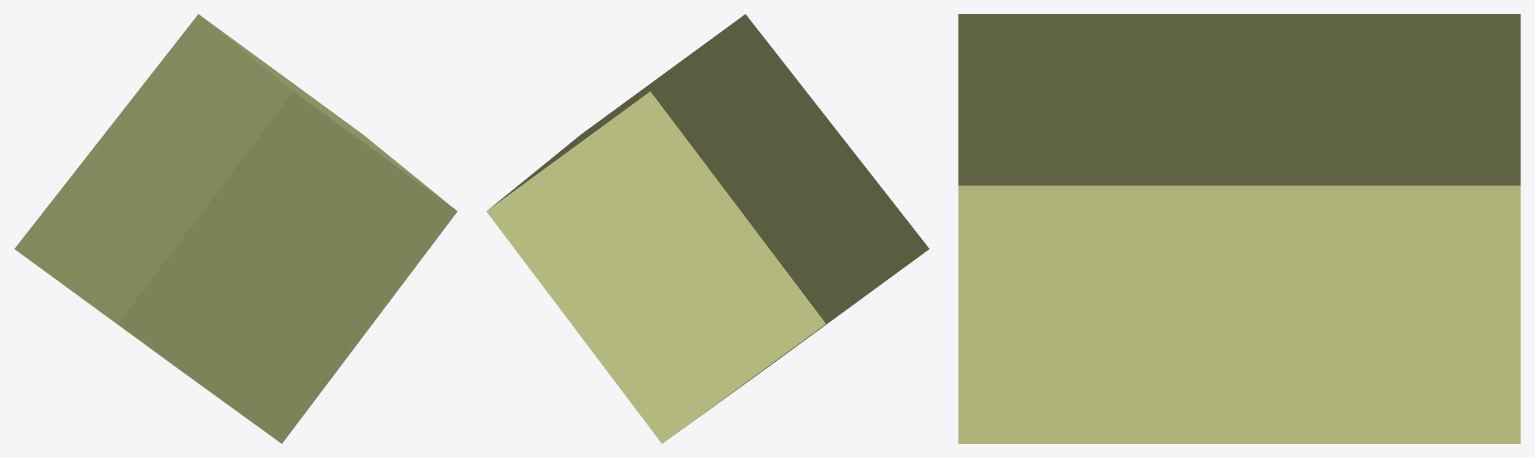
The picture shows the model from 3 angles, left to right: view 1: azimuth 30°, elevation 25°; view 2: azimuth 150°, elevation 25°; view 3: azimuth 270°, elevation 25°; orthographic projection. The views are drawn at different scales.
Parts seen in each view (by area): view 1: 0_1_1_3_3_1_0_3_2_3_2; view 2: 0_1_1_3_3_1_0_3_2_3_2; view 3: 0_1_1_3_3_1_0_3_2_3_2.
Boxes of the visible parts, x1=… form: 0_1_1_3_3_1_0_3_2_3_2: x1=14, y1=14, x2=457, y2=443; 0_1_1_3_3_1_0_3_2_3_2: x1=486, y1=14, x2=929, y2=443; 0_1_1_3_3_1_0_3_2_3_2: x1=958, y1=14, x2=1520, y2=443.
Size of the model in its own units: 8.84 by 8.78 by 9.
